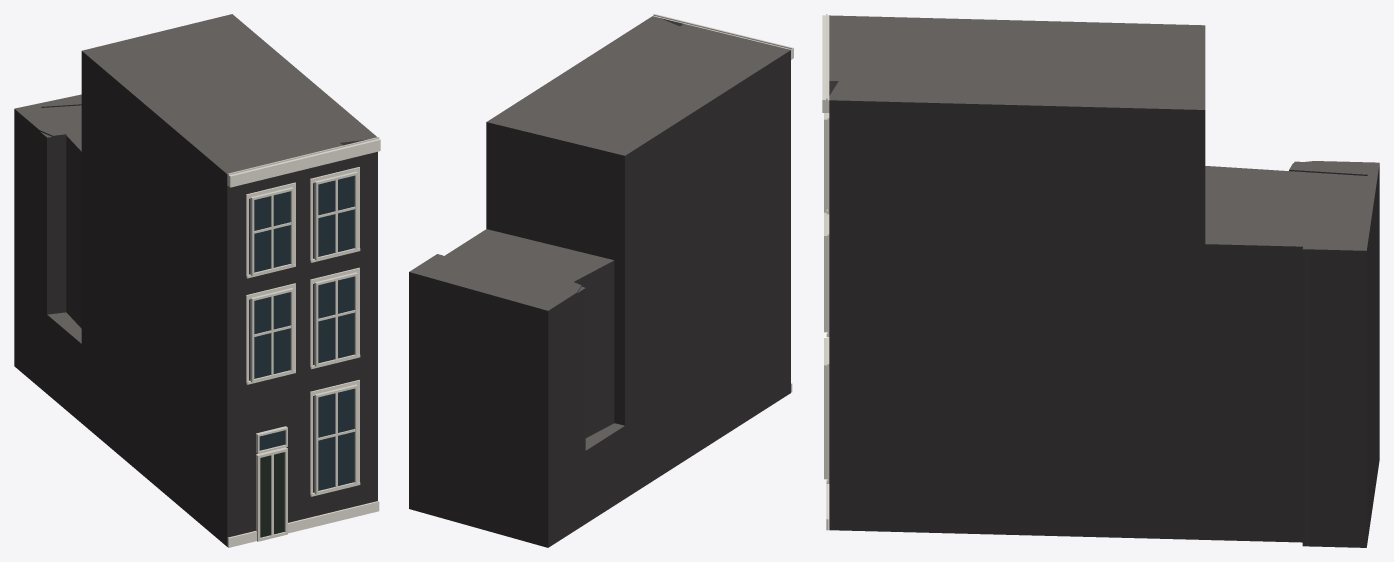
3 renders of one model, left to right at view 1: azimuth 30°, elevation 25°; view 2: azimuth 150°, elevation 25°; view 3: azimuth 270°, elevation 25°, orthographic. The views are drawn at different scales.
Visible parts, largest first — view 1: spec-0363100012177514; view 2: spec-0363100012177514; view 3: spec-0363100012177514.
Part boxes in pixels (box(x1,y1,x2,y2)): spec-0363100012177514: box(14, 14, 380, 547); spec-0363100012177514: box(409, 14, 793, 547); spec-0363100012177514: box(822, 14, 1379, 547).
Size of the model in its own units: 6 by 11.76 by 13.77.
